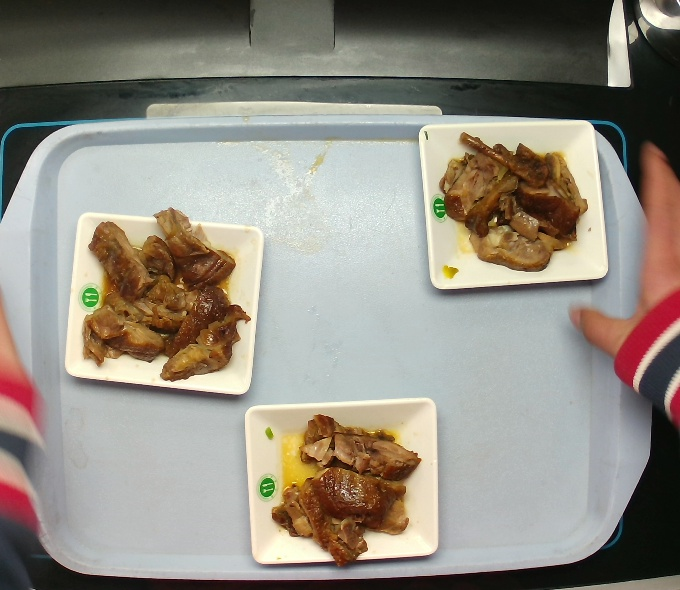wcq-YaRou: (67, 199, 255, 387), (270, 407, 424, 566), (431, 139, 592, 267)
